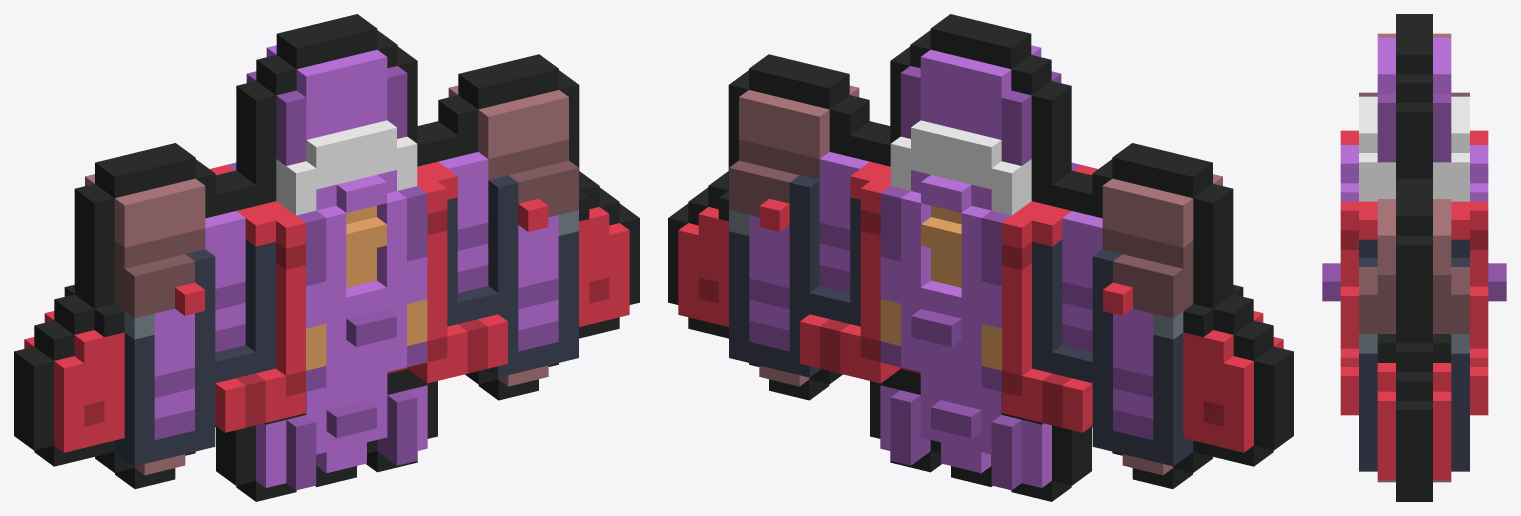
The model's file is ship-4.glb.
The picture shows the model from 3 angles, left to right: view 1: azimuth 30°, elevation 25°; view 2: azimuth 150°, elevation 25°; view 3: azimuth 270°, elevation 25°; orthographic projection. The views are drawn at different scales.
Parts seen in each view (by area): view 1: generated(Clone); view 2: generated(Clone); view 3: generated(Clone).
Boxes of the visible parts, bbox=[...] form: generated(Clone): bbox=[14, 14, 639, 501]; generated(Clone): bbox=[668, 14, 1293, 501]; generated(Clone): bbox=[1322, 14, 1506, 501].
Bounding box in the file's own units: 30 × 21 × 8.5.
